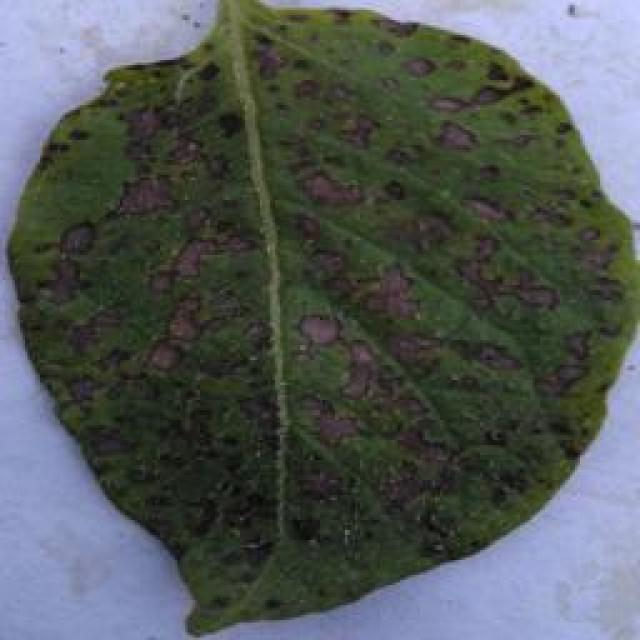Potato_Early_Blight: (6, 7, 636, 634)
